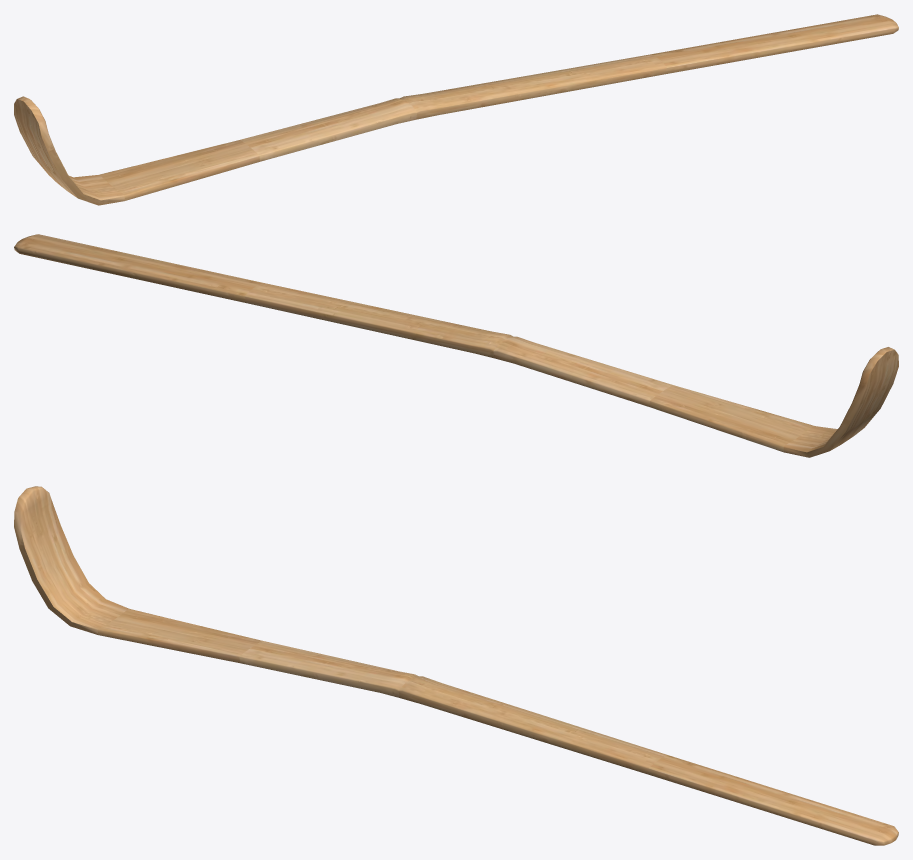
Rendered from chashaku.glb.
3 views of the same model, one above another, from view 1: azimuth 30°, elevation 25°; view 2: azimuth 150°, elevation 25°; view 3: azimuth 330°, elevation 25° (orthographic). The views are drawn at different scales.
Visible parts, largest first — view 1: Mesh_1; view 2: Mesh_1; view 3: Mesh_1.
Part boxes in pixels (<box>): Mesh_1: <box>14,14,898,205</box>; Mesh_1: <box>14,234,898,457</box>; Mesh_1: <box>14,486,898,845</box>.
Size of the model in its own units: 19.96 by 2.67 by 1.76.
Materials: 1 (1 with a texture image).
